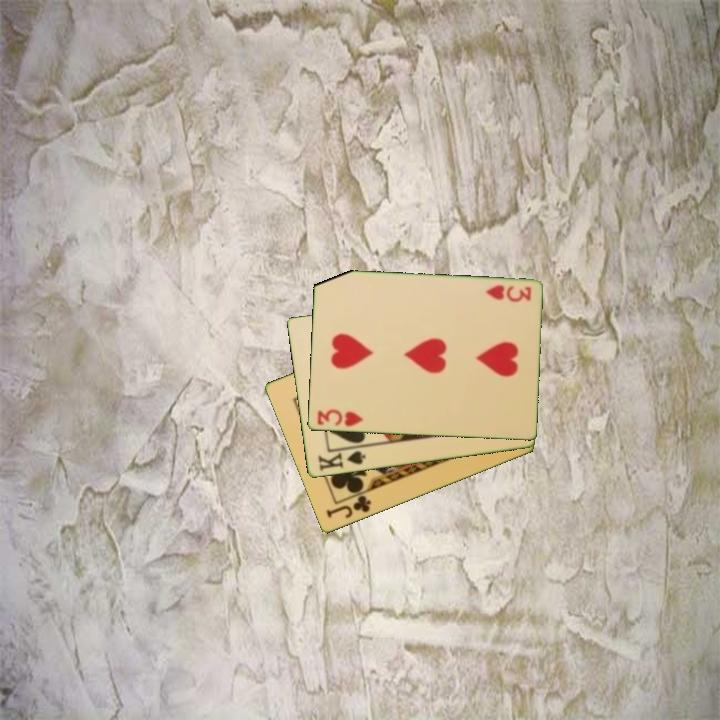3h: (313, 406, 366, 429), (482, 282, 534, 304)
Jc: (322, 492, 374, 522)
Ks: (314, 444, 368, 474)
